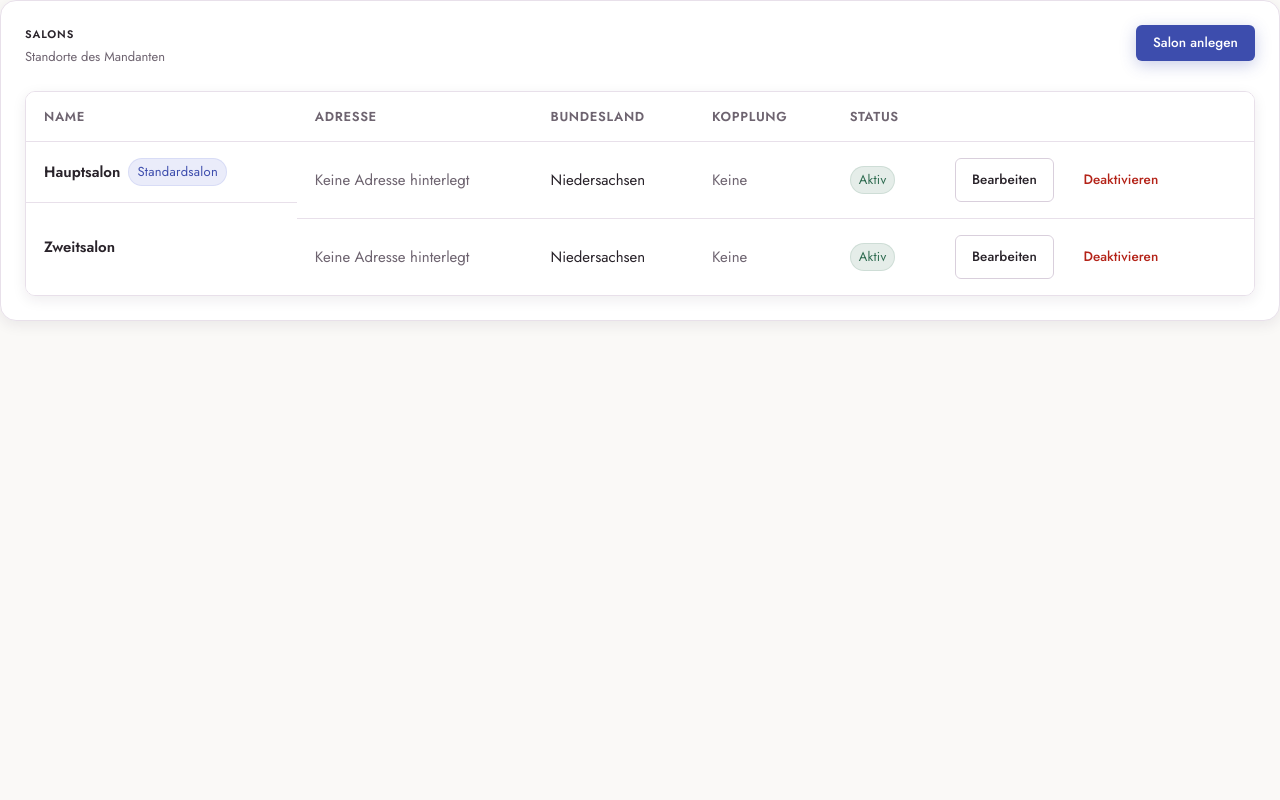
Test: SalonsSection › deactivate and activate › ALREADY_INACTIVE on deactivate closes the dialog, shows the notice and reloads
Click the button "Deaktivieren" in the row of "Zweitsalon". click: (1121, 257)
box: [1066, 235, 1175, 279]
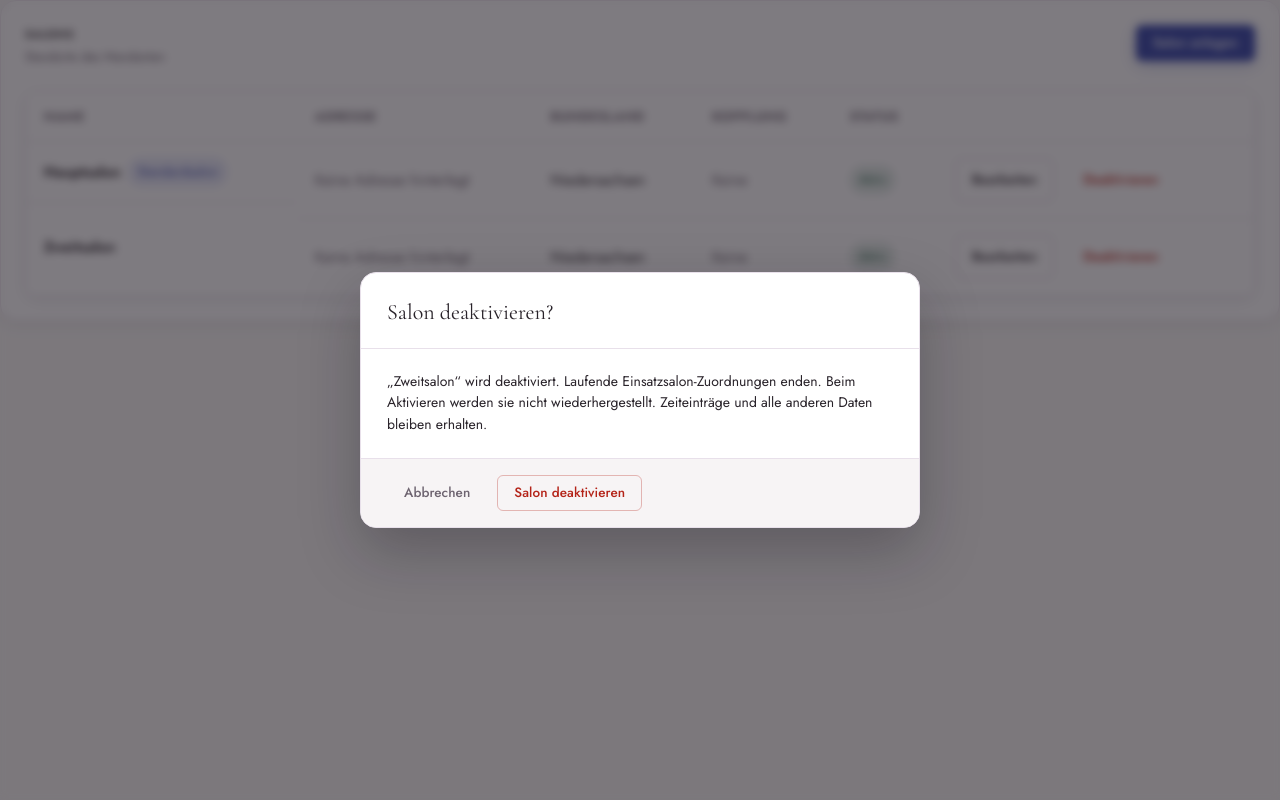
Click the button "Salon deaktivieren". click: (570, 493)
box: [497, 475, 642, 511]
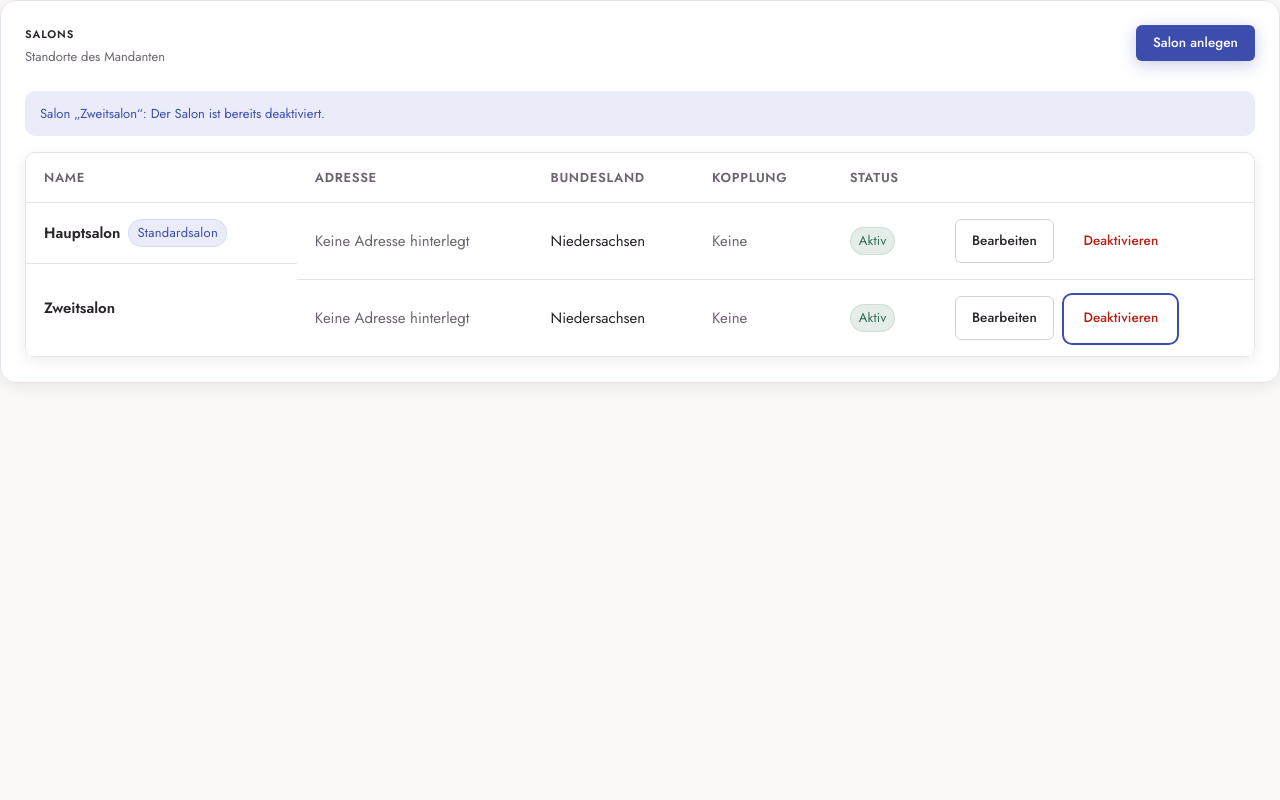
Expected: the dialog is gone
Expected: the message "Salon „Zweitsalon“: Der Salon ist bereits deaktiviert." is shown, [25, 91, 1255, 136]
